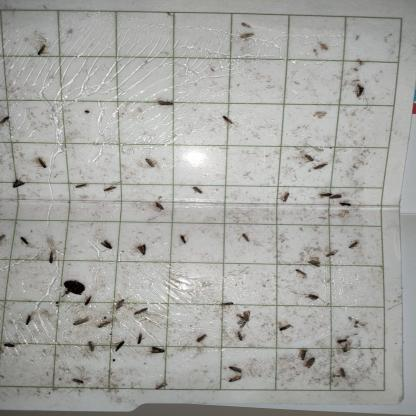prays_oleae: (95, 179, 122, 208), (150, 90, 176, 119), (140, 149, 160, 180), (222, 104, 242, 135), (266, 320, 294, 340), (134, 232, 152, 263), (302, 287, 325, 311), (293, 341, 310, 372), (8, 170, 26, 198), (233, 305, 253, 330), (35, 151, 52, 179), (0, 108, 17, 136), (275, 187, 294, 212), (299, 144, 319, 167), (130, 301, 150, 324), (236, 225, 254, 250), (0, 333, 17, 359), (69, 315, 90, 336), (302, 353, 318, 379), (22, 303, 36, 332), (15, 230, 33, 252), (95, 315, 117, 333), (111, 295, 128, 318), (37, 35, 50, 65), (336, 362, 351, 388), (68, 375, 88, 394), (147, 343, 167, 361), (325, 243, 342, 264), (112, 336, 128, 358), (351, 78, 366, 101), (346, 235, 363, 255), (96, 235, 116, 252), (314, 155, 330, 176), (42, 248, 58, 269), (191, 182, 210, 199), (306, 251, 322, 271), (152, 197, 168, 217), (84, 338, 100, 358), (330, 329, 350, 345), (195, 326, 209, 348), (214, 298, 236, 312), (326, 190, 344, 206), (292, 264, 308, 282), (134, 327, 146, 351), (339, 334, 352, 356), (228, 361, 246, 376), (178, 228, 192, 247), (84, 294, 97, 314), (337, 196, 353, 212), (75, 178, 90, 195), (318, 184, 333, 201), (225, 372, 247, 383), (232, 328, 247, 344)
